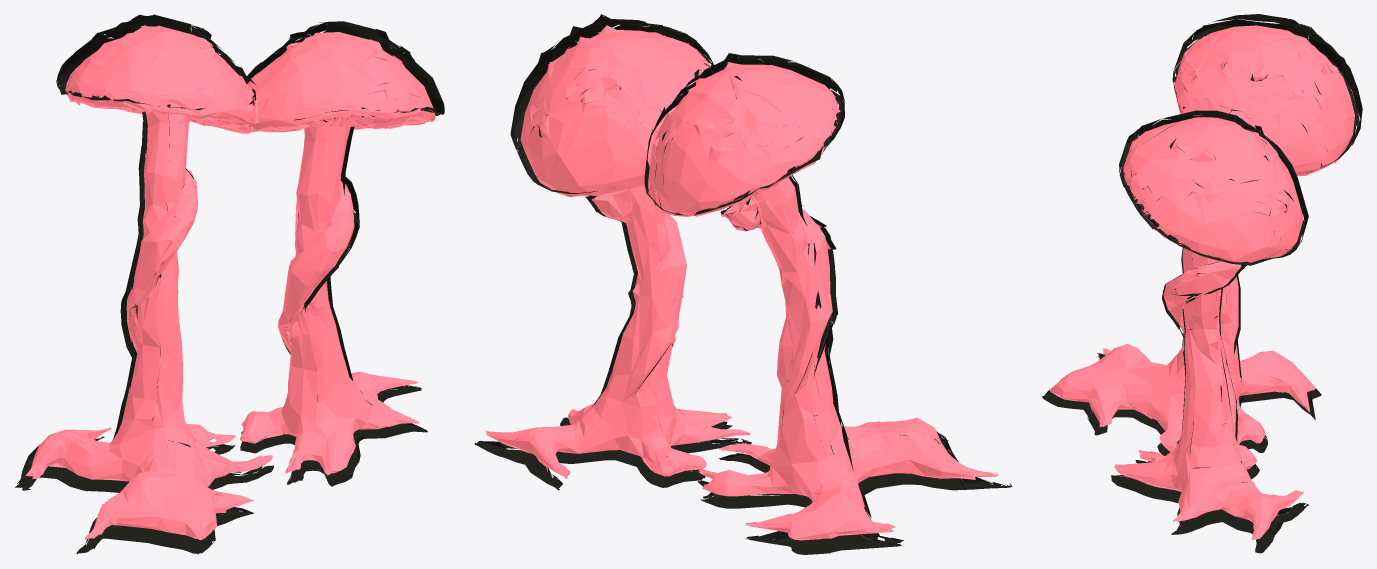
Rendered from df_v2_mushroom_cluster_large_d_a.glb.
3 views of the same model, side by side, from view 1: azimuth 30°, elevation 25°; view 2: azimuth 150°, elevation 25°; view 3: azimuth 270°, elevation 25° (orthographic). The views are drawn at different scales.
Parts seen in each view (by area): view 1: mushroom_cluster_large_d_mesh_01, mushroom_cluster_large_d_mesh_01_ink_outline; view 2: mushroom_cluster_large_d_mesh_01, mushroom_cluster_large_d_mesh_01_ink_outline; view 3: mushroom_cluster_large_d_mesh_01, mushroom_cluster_large_d_mesh_01_ink_outline.
Part boxes in pixels (x1=…): mushroom_cluster_large_d_mesh_01: x1=25, y1=25, x2=435, y2=540; mushroom_cluster_large_d_mesh_01_ink_outline: x1=15, y1=14, x2=444, y2=554; mushroom_cluster_large_d_mesh_01: x1=485, y1=25, x2=998, y2=540; mushroom_cluster_large_d_mesh_01_ink_outline: x1=474, y1=14, x2=1012, y2=554; mushroom_cluster_large_d_mesh_01: x1=1049, y1=25, x2=1354, y2=540; mushroom_cluster_large_d_mesh_01_ink_outline: x1=1042, y1=14, x2=1362, y2=553.
Bounding box in the file's own units: 1.89 × 1.8 × 1.28.
